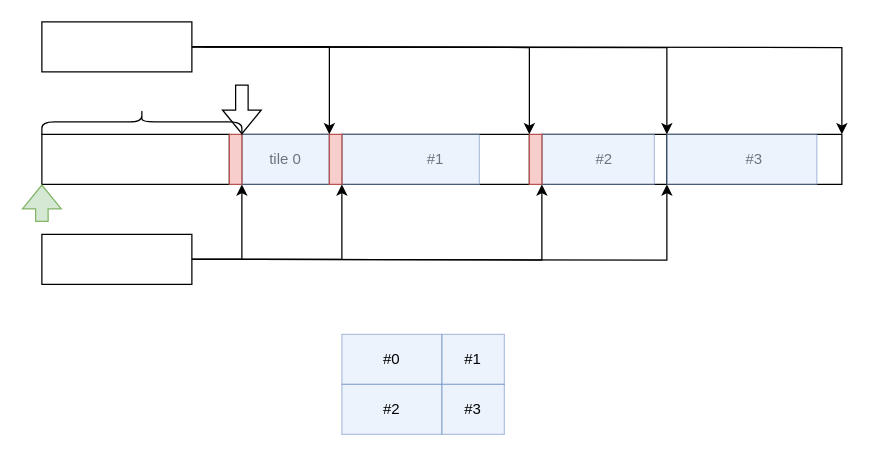
The diagram is 874 pixels wide and 456 high, and some of its shapes have lost their labels. Here are the shapes that lost their labels. From the top down, the box of each, then its label:
(41, 21, 192, 72): tile_strm_end
(41, 233, 192, 284): tile_strm_start
